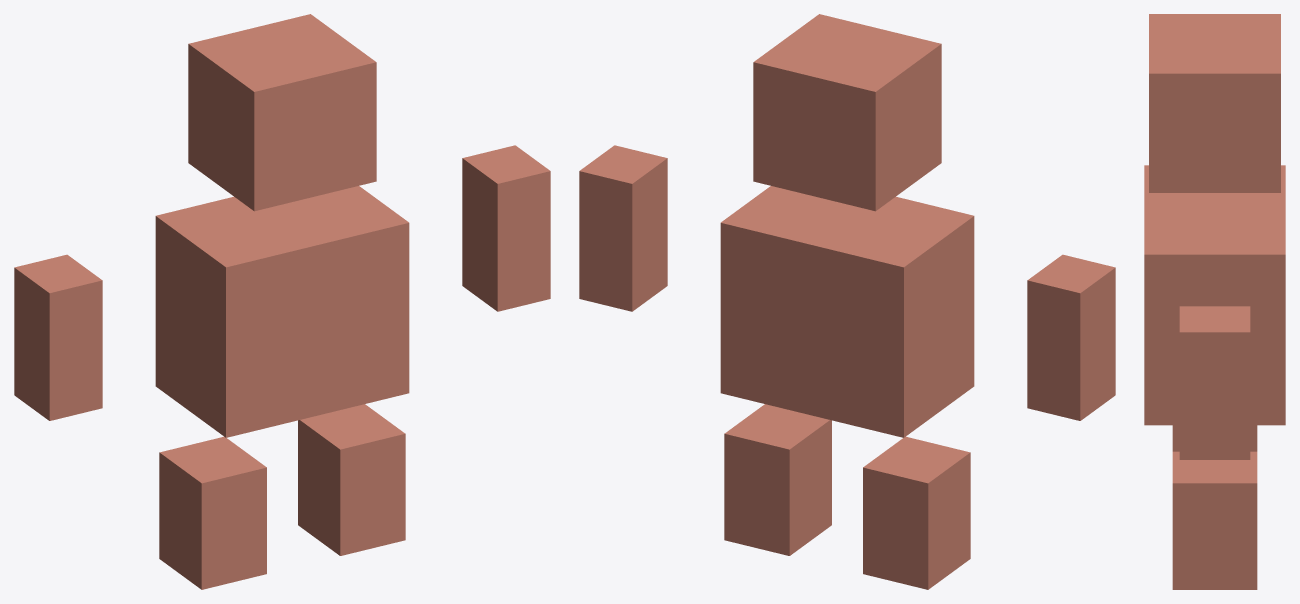
File: EnemyPlaceholder.fbx
3 views of the same model, side by side, from view 1: azimuth 30°, elevation 25°; view 2: azimuth 150°, elevation 25°; view 3: azimuth 270°, elevation 25° (orthographic).
Parts seen in each view (by area): view 1: EnemyPlaceholder; view 2: EnemyPlaceholder; view 3: EnemyPlaceholder.
Part boxes in pixels (left/top/right/bottom): EnemyPlaceholder: left=14, top=14, right=550, bottom=589; EnemyPlaceholder: left=579, top=14, right=1115, bottom=589; EnemyPlaceholder: left=1144, top=14, right=1285, bottom=589.
Size of the model in its own units: 1.23 by 1.17 by 0.3.
